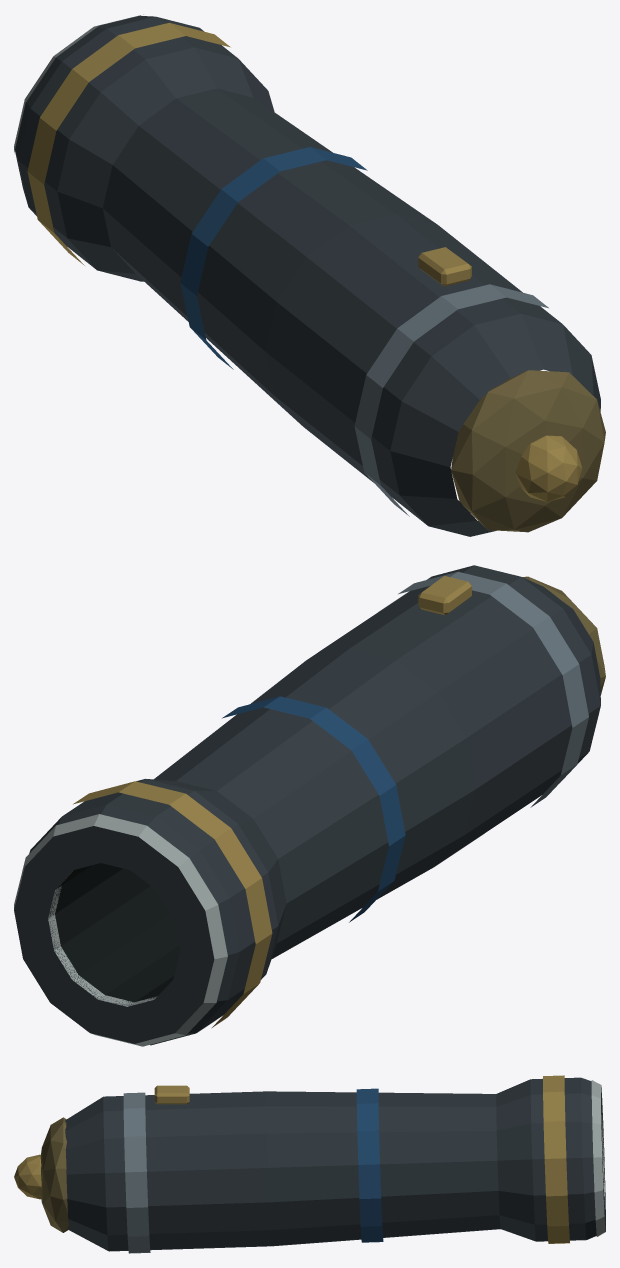
Rendered from Barrel2.glb.
3 renders of one model, top to bottom at view 1: azimuth 30°, elevation 25°; view 2: azimuth 150°, elevation 25°; view 3: azimuth 270°, elevation 25°, orthographic. The views are drawn at different scales.
Parts seen in each view (by area): view 1: Sculpture; view 2: Sculpture; view 3: Sculpture.
Part boxes in pixels (x1=…): Sculpture: x1=14, y1=14, x2=605, y2=536; Sculpture: x1=14, y1=565, x2=605, y2=1046; Sculpture: x1=14, y1=1075, x2=605, y2=1253.
Size of the model in its own units: 0.442 by 0.4607 by 1.52.
